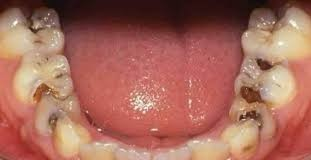LL1BC_decay: (234, 99, 277, 135)
LL1M_healthy: (243, 6, 311, 58)
LL2BC_decay: (237, 58, 298, 106)
LLCI_healthy: (155, 146, 193, 160)
LLC_decay: (224, 120, 260, 157)
LLLI_healthy: (192, 140, 230, 160)
LR1BC_decay: (37, 96, 80, 131)
LR1M_decay: (2, 8, 66, 53)
LR2BC_decay: (15, 54, 73, 99)
LRCI_healthy: (116, 146, 151, 160)
LRC_healthy: (55, 115, 87, 156)
LRLI_healthy: (81, 140, 116, 160)
